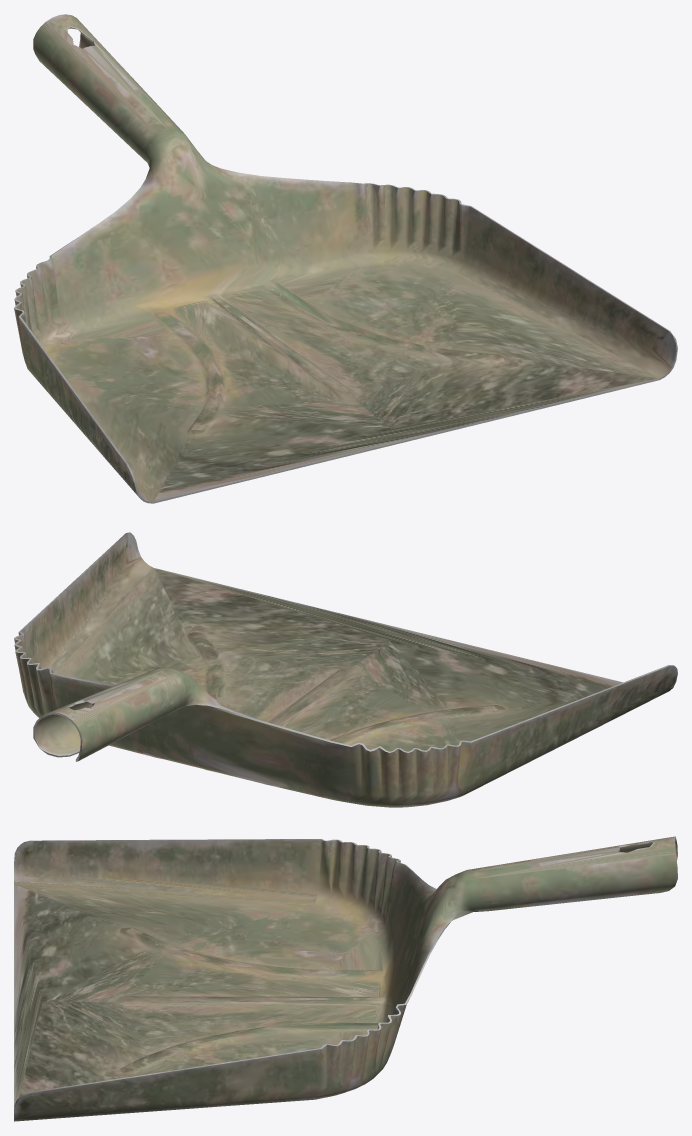
Rendered from dustpan.glb.
3 views of the same model, one above another, from view 1: azimuth 30°, elevation 25°; view 2: azimuth 150°, elevation 25°; view 3: azimuth 270°, elevation 25° (orthographic). The views are drawn at different scales.
Parts seen in each view (by area): view 1: dustpan; view 2: dustpan; view 3: dustpan.
Boxes of the visible parts, left/top/right/bottom form: dustpan: left=14, top=14, right=677, bottom=503; dustpan: left=14, top=532, right=677, bottom=807; dustpan: left=14, top=836, right=677, bottom=1121.
Bounding box in the file's own units: 0.332 × 0.1003 × 0.3679.
Materials: 1 (1 with a texture image).
